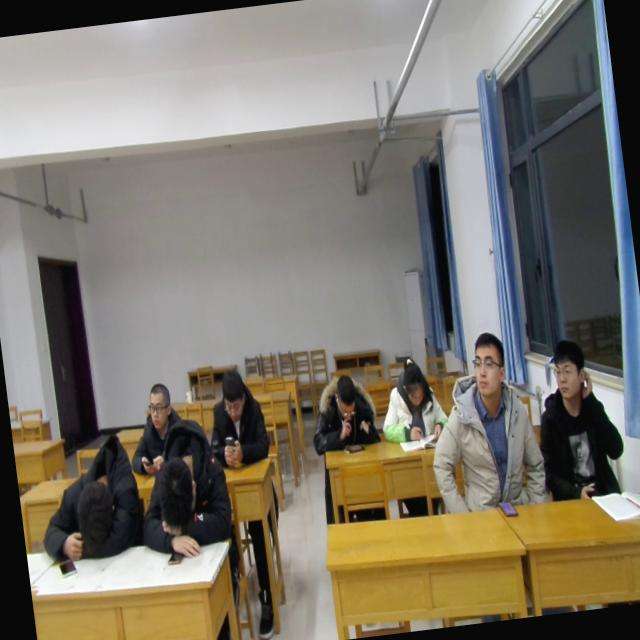bow: (130, 418, 240, 566), (30, 428, 143, 568)
down: (212, 362, 251, 426), (325, 365, 362, 422), (398, 352, 433, 412)
lookup: (462, 321, 510, 399), (544, 331, 592, 402), (142, 380, 176, 434)
sit: (416, 328, 550, 520), (528, 324, 630, 503), (196, 362, 272, 468), (302, 366, 381, 460), (372, 352, 449, 446), (120, 376, 184, 475)
